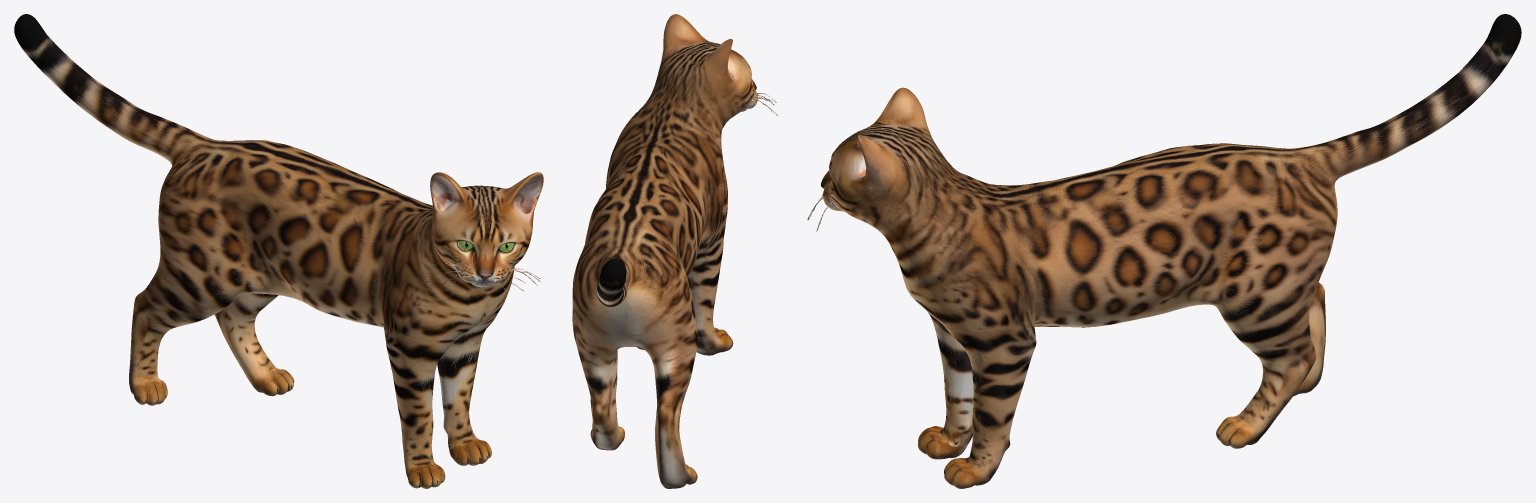
The model's file is tiger.glb.
The picture shows the model from 3 angles, left to right: view 1: azimuth 30°, elevation 25°; view 2: azimuth 150°, elevation 25°; view 3: azimuth 270°, elevation 25°; orthographic projection. The views are drawn at different scales.
Parts seen in each view (by area): view 1: Mesh_0; view 2: Mesh_0; view 3: Mesh_0.
Boxes of the visible parts, left/top/right/bottom form: Mesh_0: left=14, top=14, right=543, bottom=488; Mesh_0: left=572, top=14, right=777, bottom=488; Mesh_0: left=807, top=14, right=1521, bottom=488.
Bounding box in the file's own units: 0.8511 × 1.07 × 1.9.
1 material, 1 textured.
